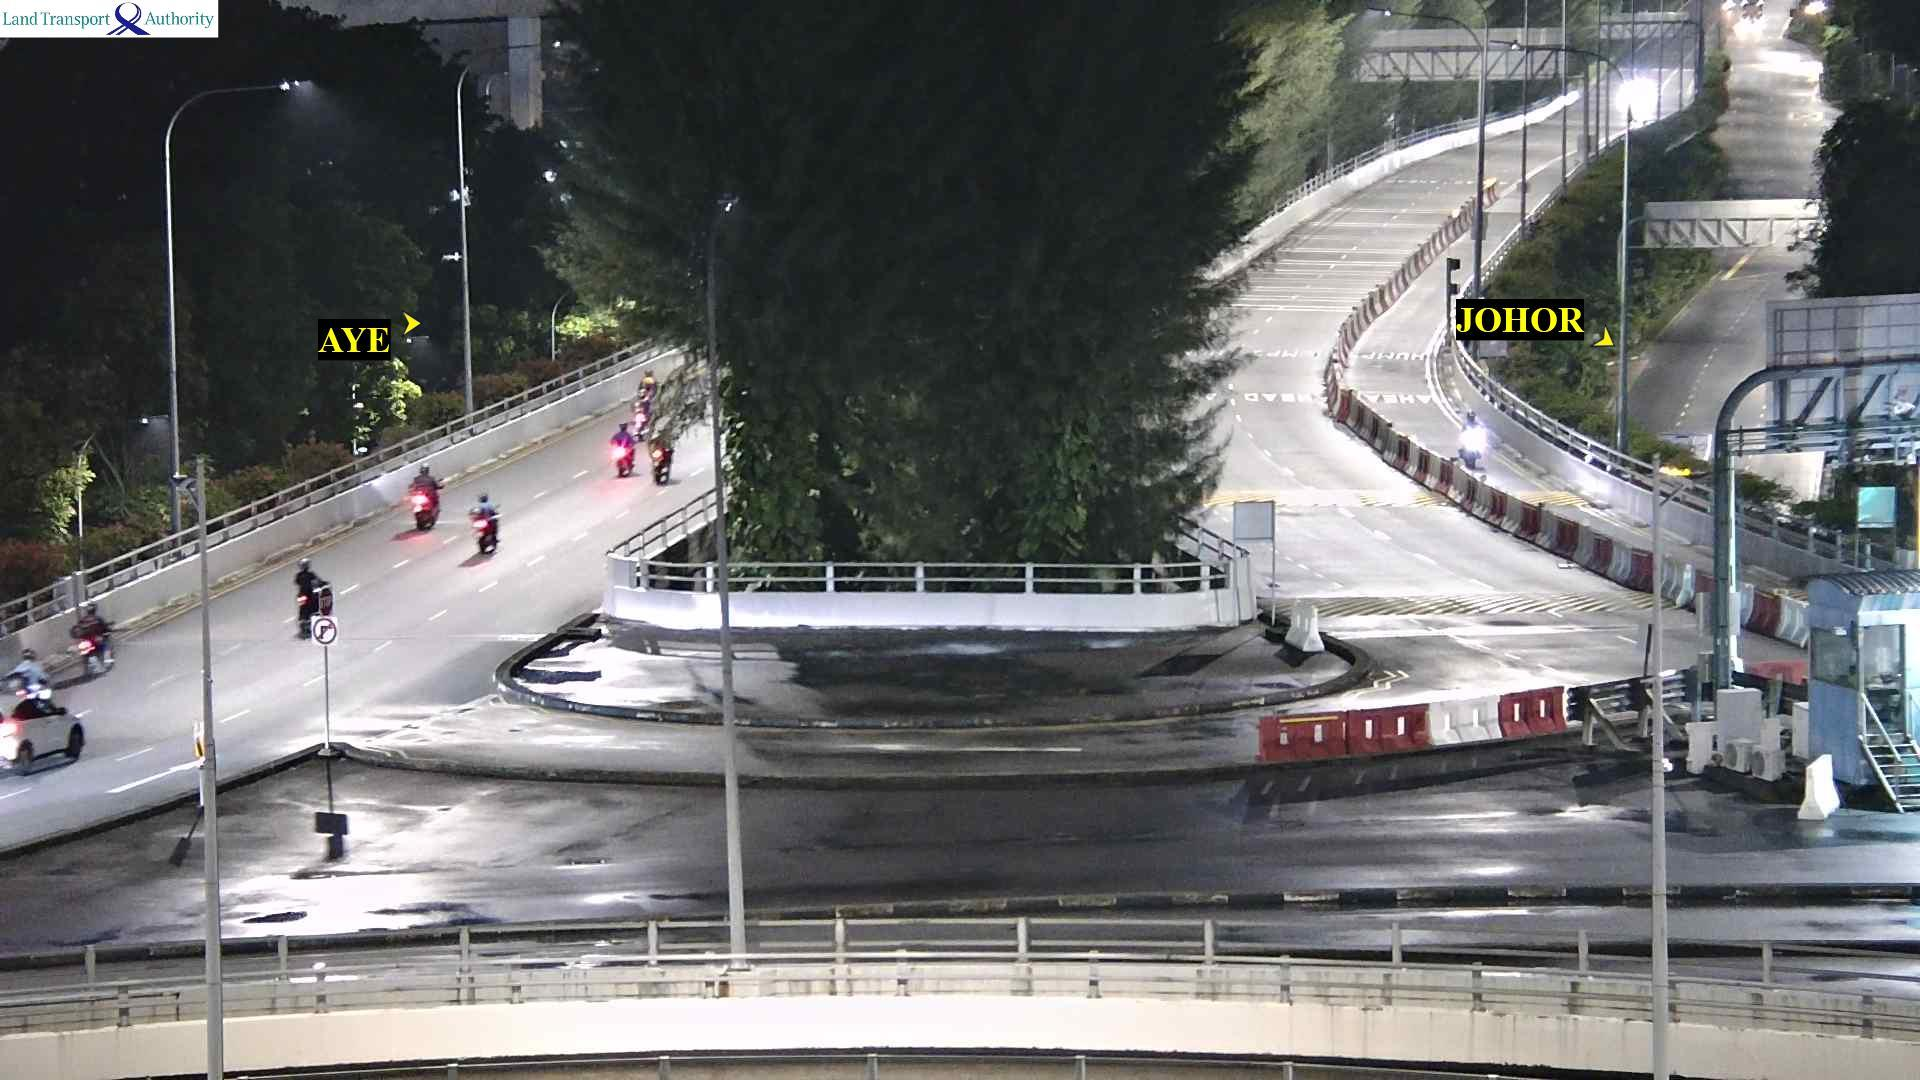vehicle-secondlink-johor: (1457, 398, 1482, 468)
vehicle-secondlink-singapore: (4, 700, 91, 781), (74, 611, 121, 670), (294, 562, 332, 621), (414, 471, 442, 527), (475, 492, 493, 551), (611, 422, 629, 479), (637, 368, 658, 410), (649, 446, 667, 488)
